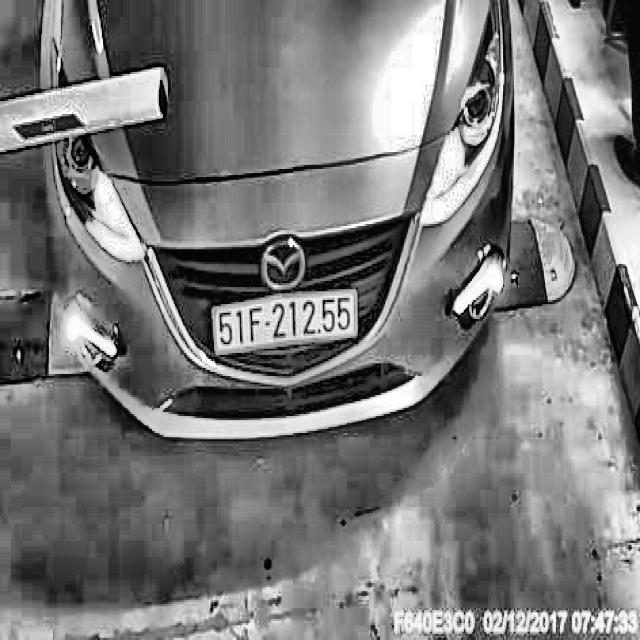plate: (208, 283, 361, 360)
